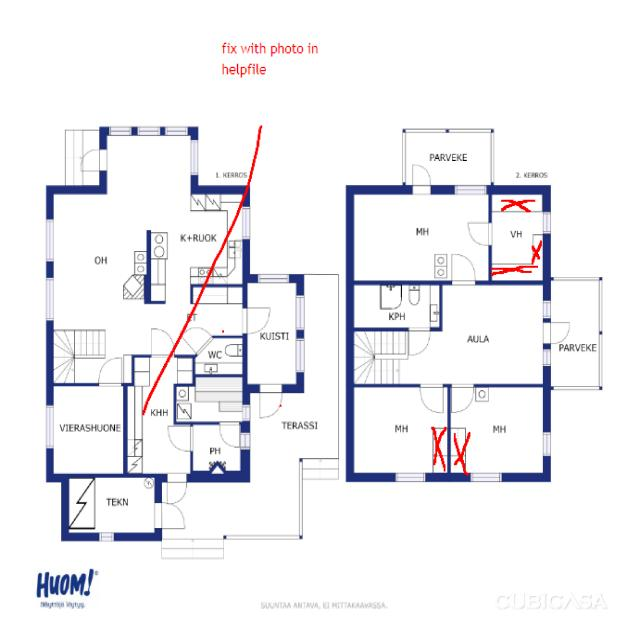door: (181, 318, 213, 355), (154, 502, 185, 528), (260, 383, 282, 418), (242, 308, 270, 334), (98, 356, 122, 386), (452, 254, 475, 285), (420, 383, 443, 412), (152, 329, 174, 357), (167, 474, 187, 504), (169, 426, 193, 450), (412, 164, 431, 194), (543, 322, 570, 343), (452, 384, 473, 411), (409, 327, 430, 354), (468, 223, 492, 246), (80, 150, 106, 170), (220, 421, 239, 446)
